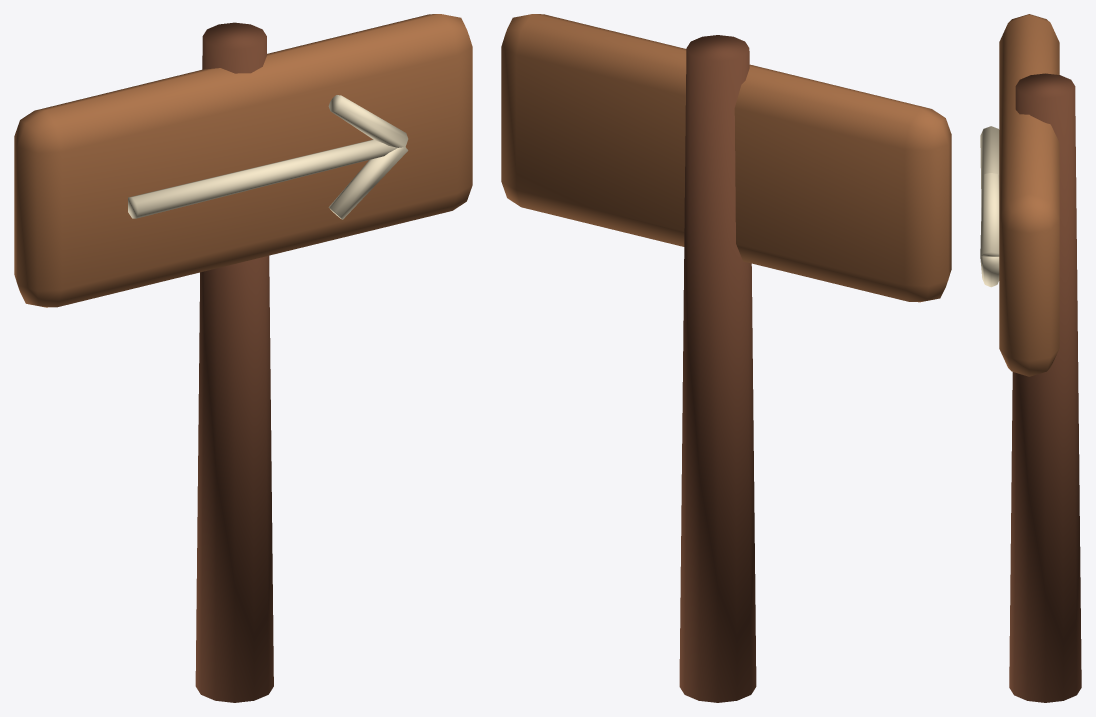
The model's file is signpost.glb.
3 renders of one model, left to right at view 1: azimuth 30°, elevation 25°; view 2: azimuth 150°, elevation 25°; view 3: azimuth 270°, elevation 25°, orthographic. The views are drawn at different scales.
Parts seen in each view (by area): view 1: signpost_mesh; view 2: signpost_mesh; view 3: signpost_mesh.
Boxes of the visible parts, <box> form: signpost_mesh: <box>14,14,472,702</box>; signpost_mesh: <box>501,14,951,702</box>; signpost_mesh: <box>980,14,1081,702</box>.
Size of the model in its own units: 1.2 by 1.65 by 0.252.
